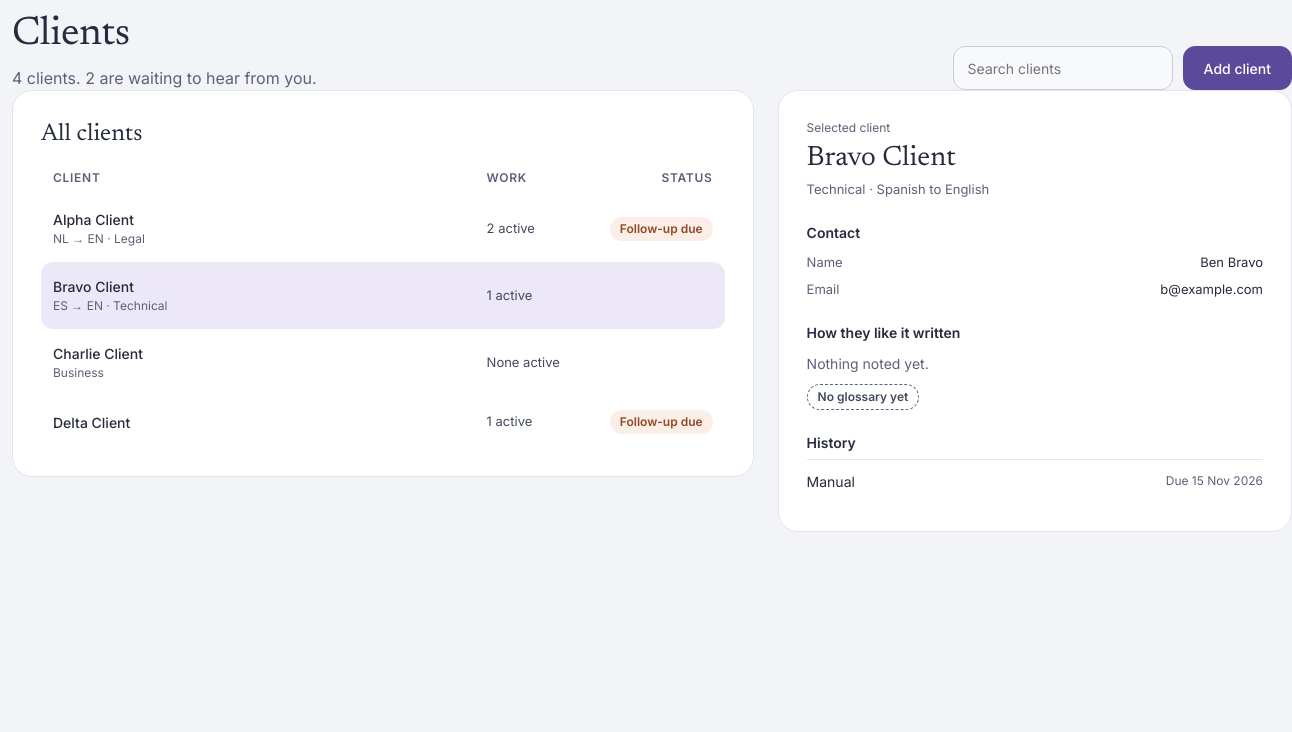
it: ClientsView › selects the client in the query parameter, and follows a row click
Check: the heading "Bravo Client" is shown, box [807,144,956,172]
Click the link with class "clients-row" that starts with "Charlie Client": (98, 354) [53,345,560,380]
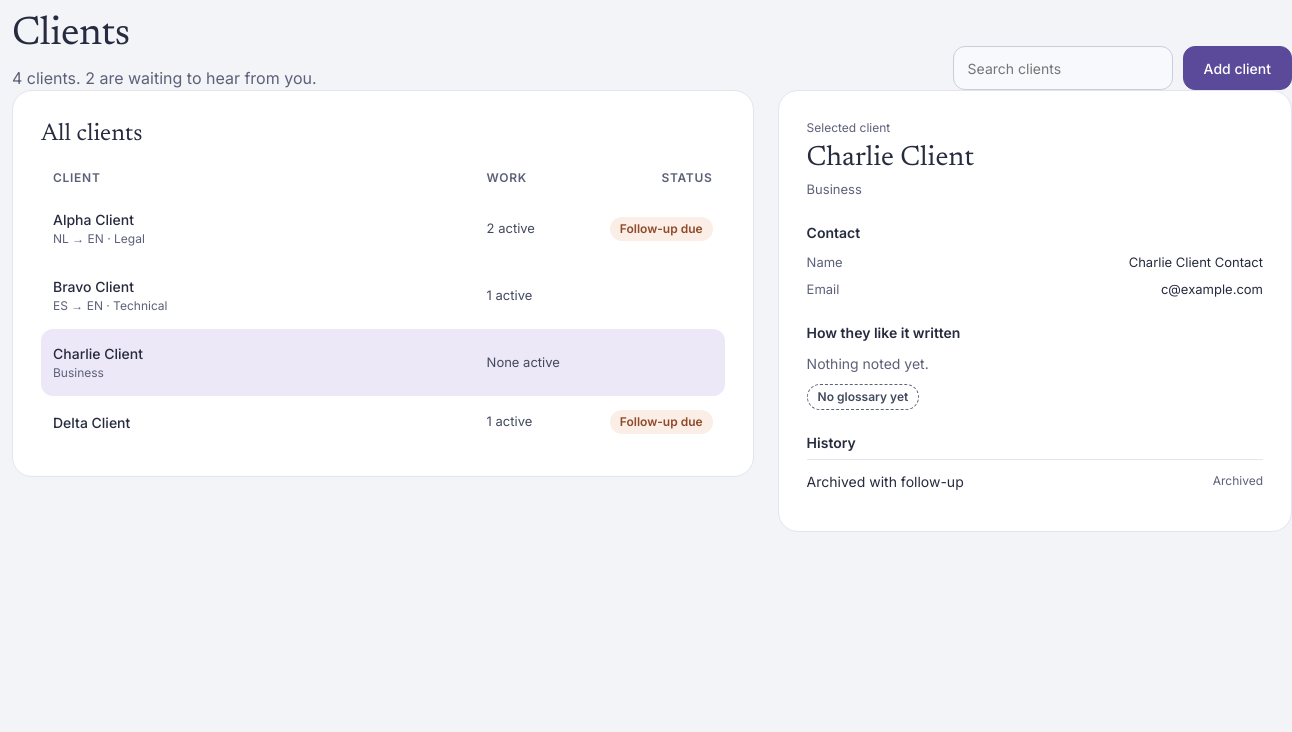
Check: the heading "Charlie Client" is shown, box [807,144,974,172]
